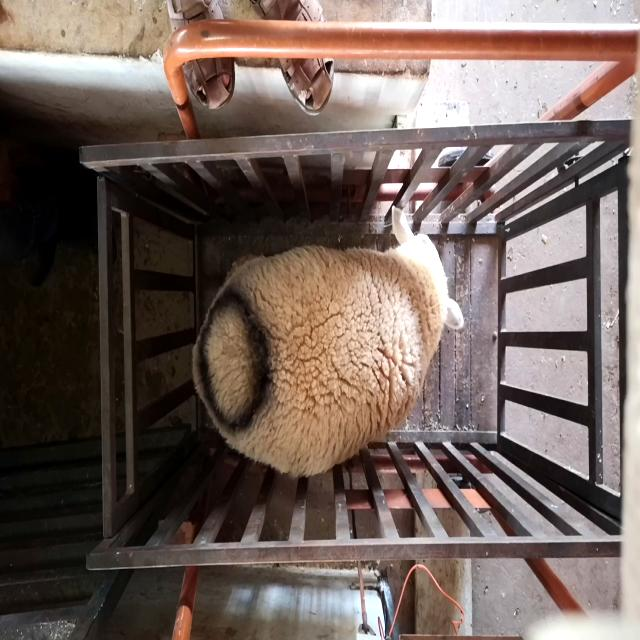sheep: (190, 206, 464, 478)
